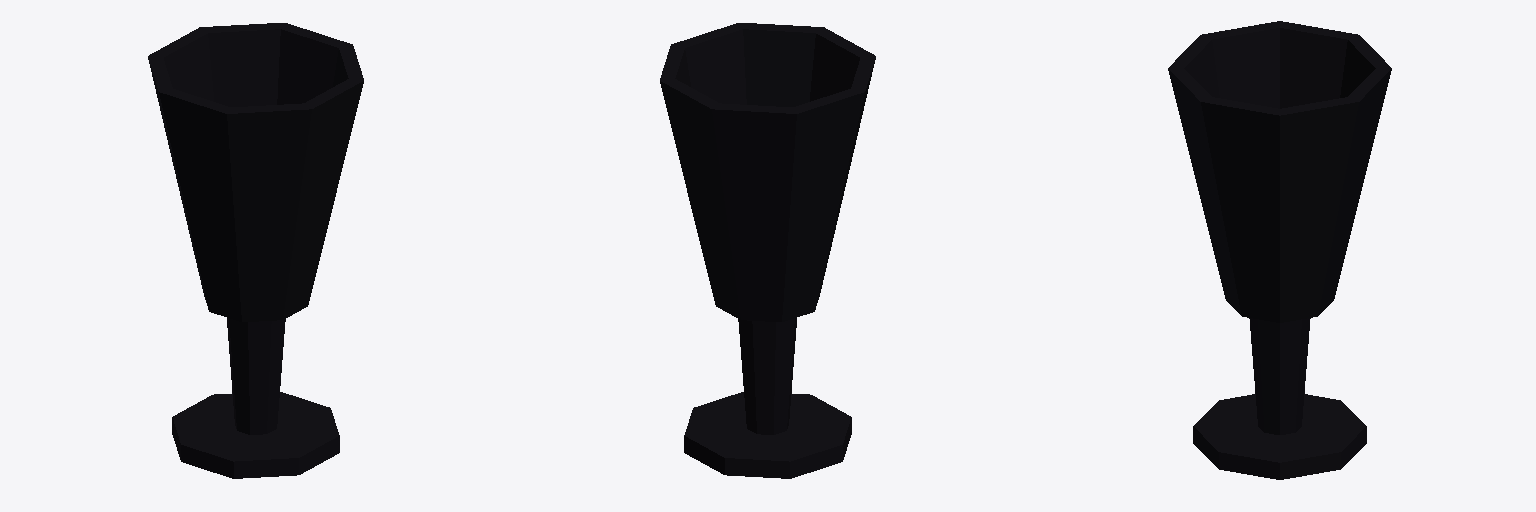
File: Cup1.obj
The picture shows the model from 3 angles: view 1: azimuth 30°, elevation 25°; view 2: azimuth 150°, elevation 25°; view 3: azimuth 270°, elevation 25°; orthographic projection.
Visible parts, largest first — view 1: Cup1_Cylinder.002; view 2: Cup1_Cylinder.002; view 3: Cup1_Cylinder.002.
Boxes of the visible parts, x1=… form: Cup1_Cylinder.002: x1=148, y1=23, x2=363, y2=478; Cup1_Cylinder.002: x1=660, y1=23, x2=875, y2=478; Cup1_Cylinder.002: x1=1168, y1=21, x2=1391, y2=479.
Size of the model in its own units: 0.1727 by 0.3189 by 0.1727.